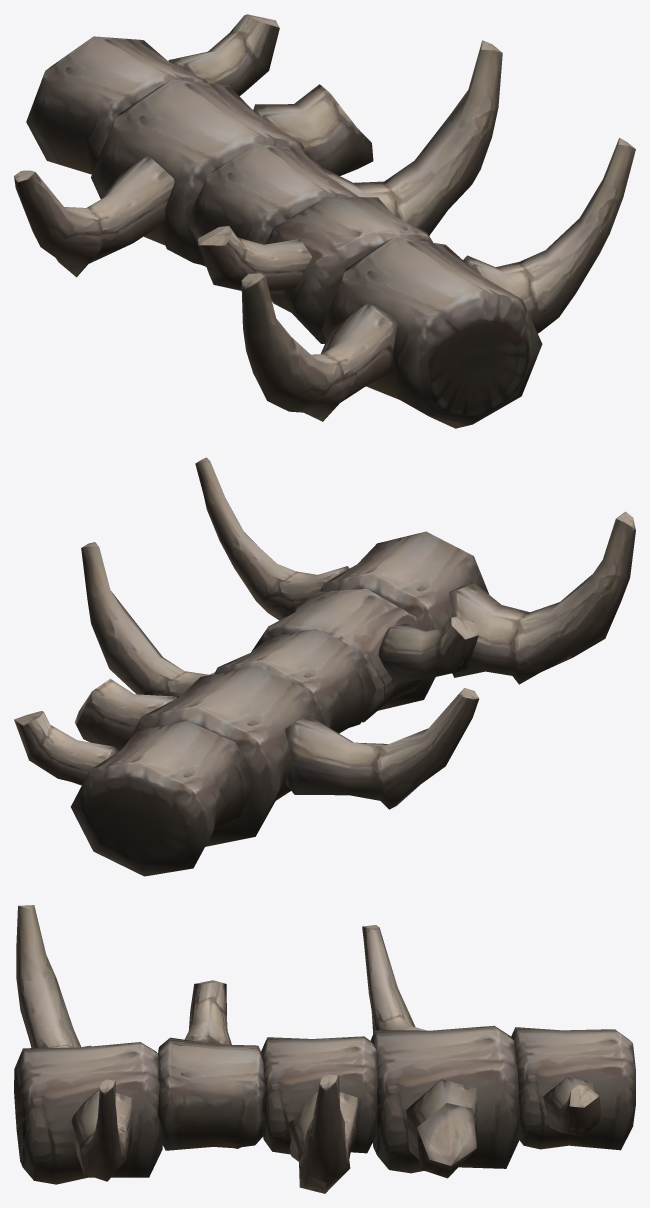
Rendered from gutou.FBX.
3 renders of one model, top to bottom at view 1: azimuth 30°, elevation 25°; view 2: azimuth 150°, elevation 25°; view 3: azimuth 270°, elevation 25°, orthographic. The views are drawn at different scales.
Parts seen in each view (by area): view 1: Object003, Object008, Object011, Object010, Object007, Object009, Object006, Object004, Object001, Object013, Object005, Object014; view 2: Object010, Object011, Object008, Object009, Object003, Object006, Object004, Object007, Object001, Object005, Object014, Object013; view 3: Object008, Object003, Object010, Object004, Object006, Object007, Object013, Object011, Object001, Object009, Object014, Object005.
Part boxes in pixels (bbox=[...]): Object003: bbox=[322, 237, 542, 428]; Object008: bbox=[91, 79, 304, 266]; Object011: bbox=[241, 273, 397, 421]; Object010: bbox=[26, 36, 207, 174]; Object007: bbox=[322, 40, 502, 235]; Object009: bbox=[14, 155, 174, 277]; Object006: bbox=[187, 144, 358, 244]; Object004: bbox=[265, 197, 432, 343]; Object001: bbox=[463, 138, 635, 333]; Object013: bbox=[253, 84, 373, 175]; Object005: bbox=[198, 226, 311, 293]; Object014: bbox=[168, 14, 279, 96]; Object010: bbox=[71, 721, 254, 876]; Object011: bbox=[449, 511, 635, 684]; Object008: bbox=[131, 665, 325, 846]; Object009: bbox=[285, 688, 479, 809]; Object003: bbox=[320, 531, 489, 710]; Object006: bbox=[214, 629, 376, 733]; Object004: bbox=[251, 589, 421, 722]; Object007: bbox=[81, 542, 214, 698]; Object001: bbox=[195, 457, 349, 620]; Object005: bbox=[378, 616, 478, 683]; Object014: bbox=[14, 711, 118, 785]; Object013: bbox=[74, 678, 176, 751]; Object008: bbox=[370, 1025, 519, 1173]; Object003: bbox=[14, 1042, 162, 1184]; Object010: bbox=[511, 1027, 635, 1150]; Object004: bbox=[158, 1037, 265, 1150]; Object006: bbox=[261, 1036, 377, 1154]; Object007: bbox=[288, 1074, 357, 1193]; Object013: bbox=[406, 1079, 476, 1178]; Object011: bbox=[16, 905, 90, 1047]; Object001: bbox=[71, 1079, 132, 1181]; Object009: bbox=[362, 925, 426, 1033]; Object014: bbox=[543, 1077, 601, 1136]; Object005: bbox=[184, 980, 231, 1044].
Bounding box in the file's own units: 269 × 122 × 365.
